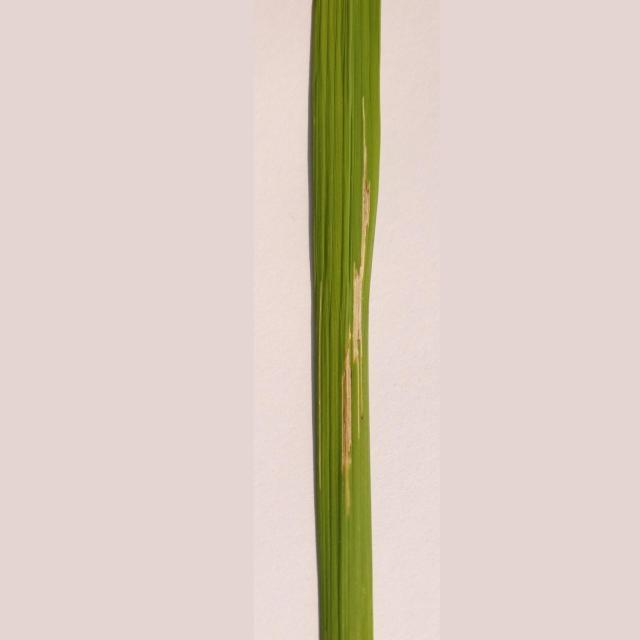leaf blight: (318, 89, 376, 538)
